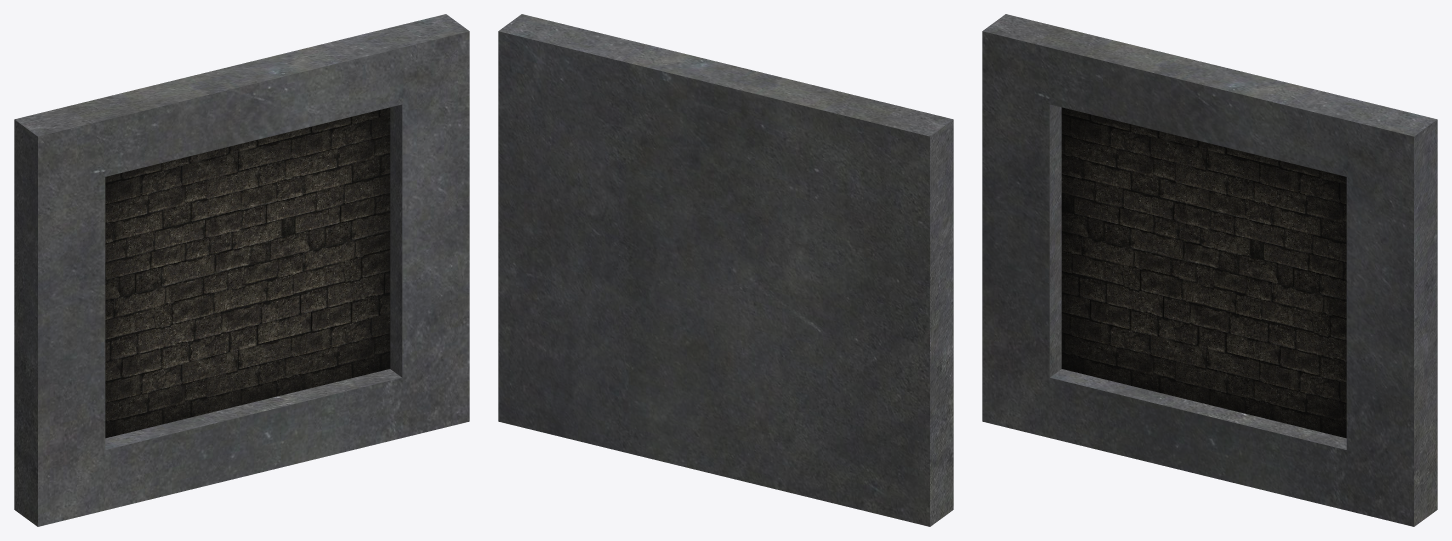
File: doormodel.fbx
3 views of the same model, side by side, from view 1: azimuth 30°, elevation 25°; view 2: azimuth 150°, elevation 25°; view 3: azimuth 330°, elevation 25° (orthographic).
Parts seen in each view (by area): view 1: pCube5; view 2: pCube5; view 3: pCube5.
Boxes of the visible parts, <box> form: pCube5: <box>14,14,469,526</box>; pCube5: <box>498,14,953,526</box>; pCube5: <box>982,14,1437,526</box>.
Size of the model in its own units: 10.59 by 9.14 by 1.
